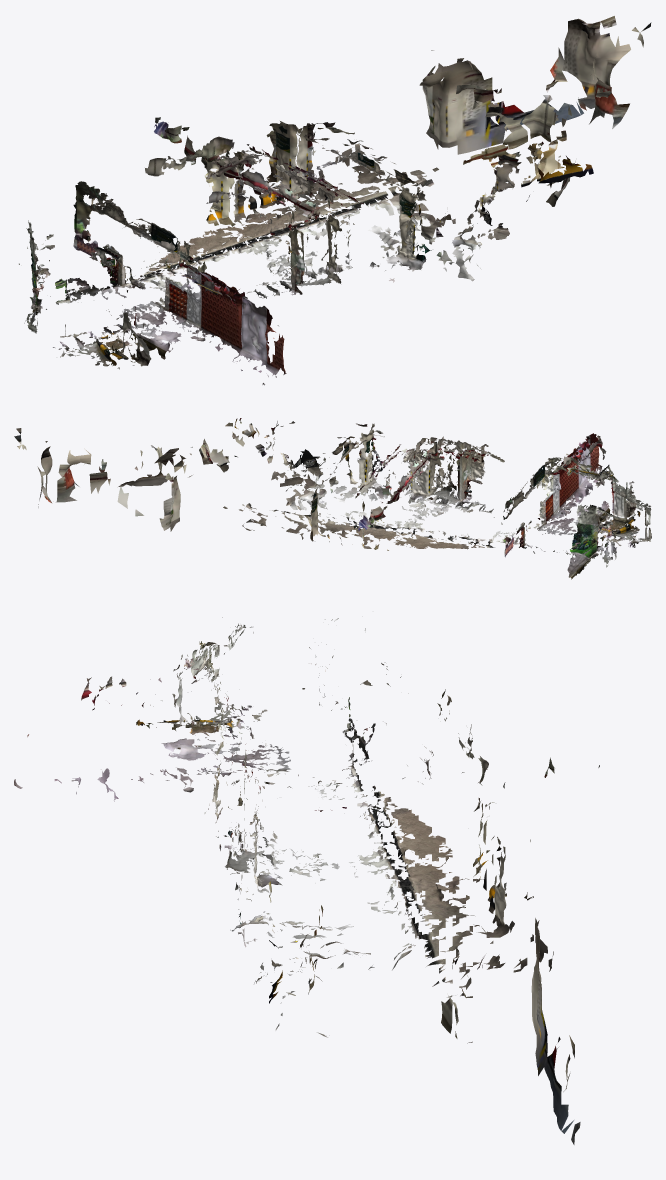
File: 134602-cobarsiayanijenazah-tex.glb
The picture shows the model from 3 angles, top to bottom: view 1: azimuth 30°, elevation 25°; view 2: azimuth 150°, elevation 25°; view 3: azimuth 270°, elevation 25°; orthographic projection. The views are drawn at different scales.
Parts seen in each view (by area): view 1: Node; view 2: Node; view 3: Node.
Part boxes in pixels (x1=…): Node: x1=19, y1=16, x2=651, y2=385; Node: x1=14, y1=418, x2=651, y2=579; Node: x1=14, y1=617, x2=599, y2=1144.
Bounding box in the file's own units: 29.82 × 5.22 × 17.39.
Materials: 20 (20 with a texture image).
